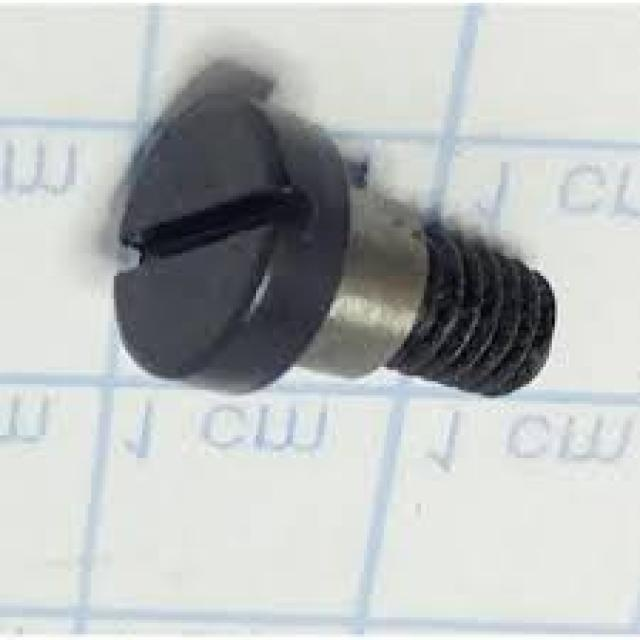duz: (111, 90, 347, 397)
